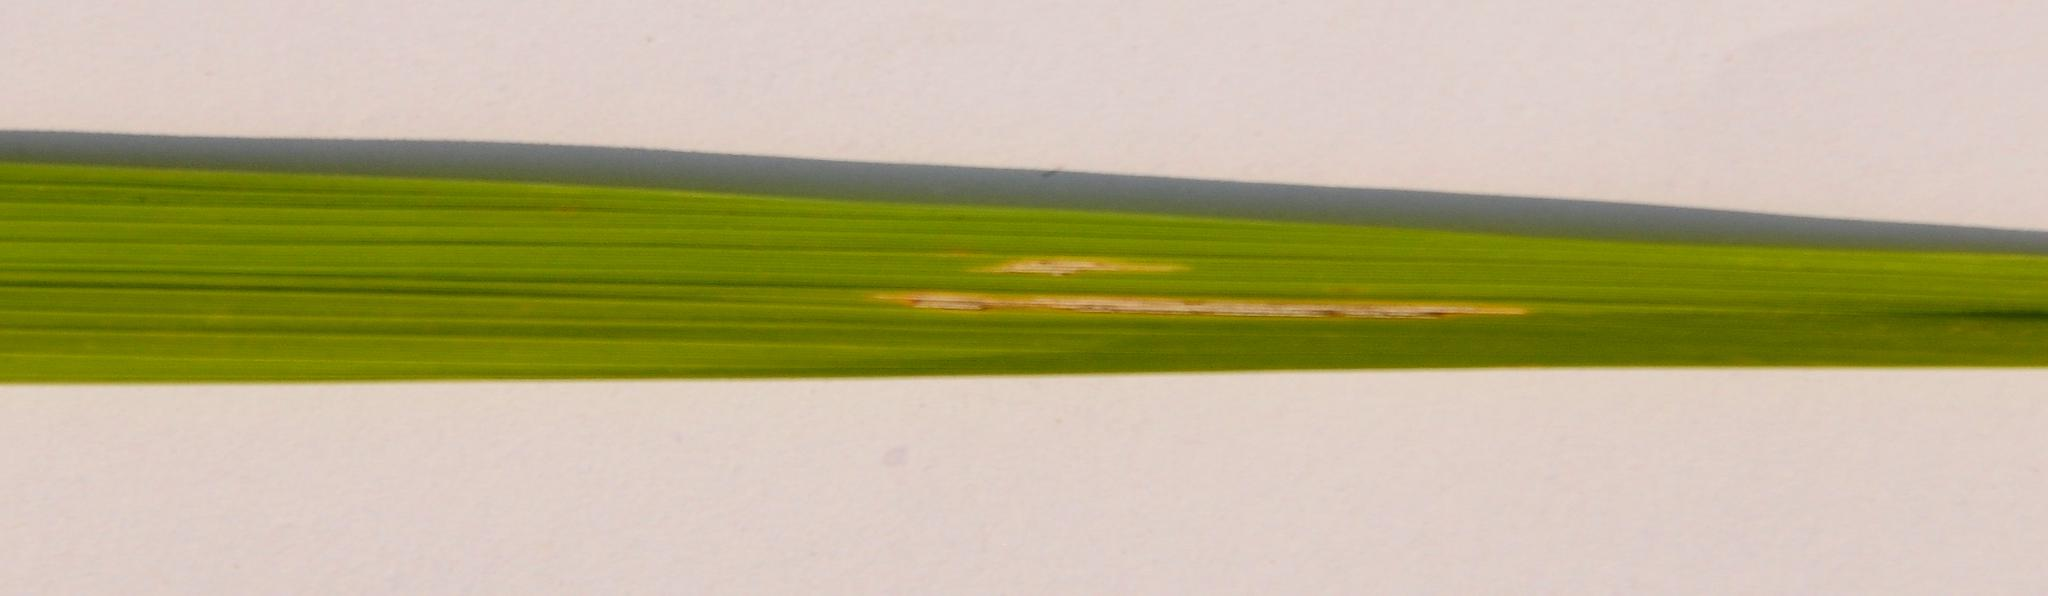2 BacterialBlight: (810, 212, 1599, 339)
